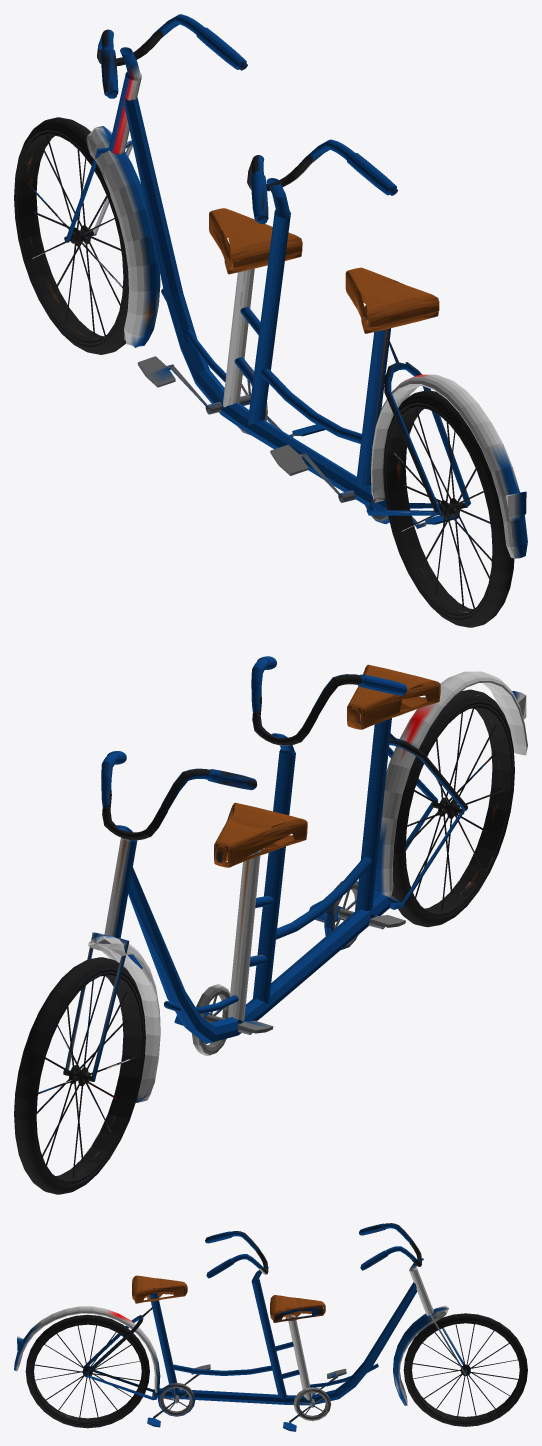
3 renders of one model, top to bottom at view 1: azimuth 30°, elevation 25°; view 2: azimuth 150°, elevation 25°; view 3: azimuth 270°, elevation 25°, orthographic. The views are drawn at different scales.
Parts seen in each view (by area): view 1: 9i2YcKNJpi; view 2: 9i2YcKNJpi; view 3: 9i2YcKNJpi.
Boxes of the visible parts, x1,y1,x2,y2 form: 9i2YcKNJpi: (14, 14, 527, 627); 9i2YcKNJpi: (14, 656, 527, 1194); 9i2YcKNJpi: (14, 1223, 527, 1431).
Size of the model in its own units: 0.1572 by 0.3787 by 0.9121.
1 material, 1 textured.
